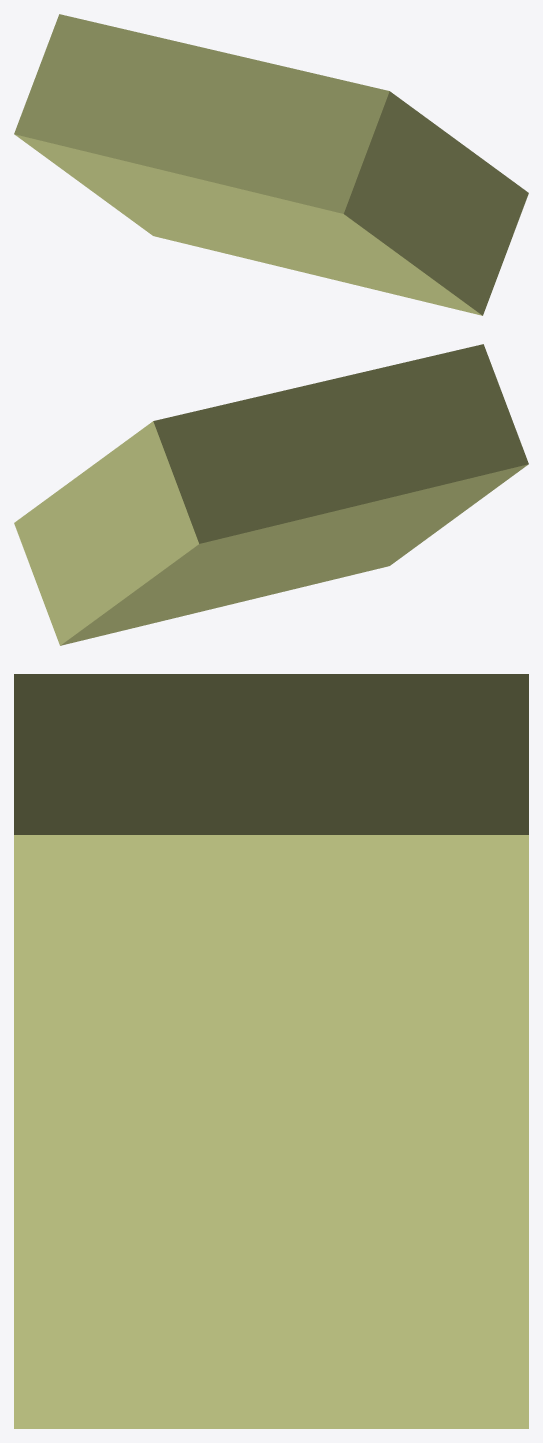
3 views of the same model, one above another, from view 1: azimuth 30°, elevation 25°; view 2: azimuth 150°, elevation 25°; view 3: azimuth 270°, elevation 25° (orthographic). The views are drawn at different scales.
Visible parts, largest first — view 1: 0_1_0_0_1_0_0_3_3_3_1; view 2: 0_1_0_0_1_0_0_3_3_3_1; view 3: 0_1_0_0_1_0_0_3_3_3_1.
Boxes of the visible parts, x1,y1,x2,y2 form: 0_1_0_0_1_0_0_3_3_3_1: (14,14,528,315); 0_1_0_0_1_0_0_3_3_3_1: (14,344,528,645); 0_1_0_0_1_0_0_3_3_3_1: (14,674,528,1428).
Size of the model in its own units: 14.02 by 9.6 by 9.
